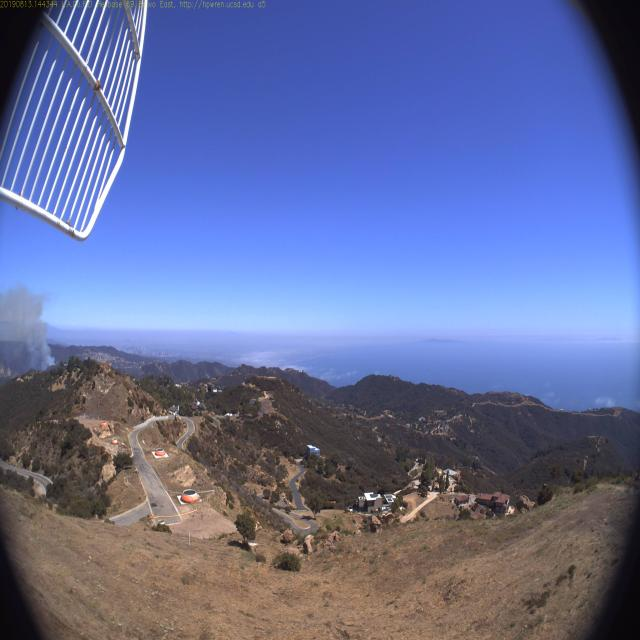smoke: (31, 333, 71, 382)
